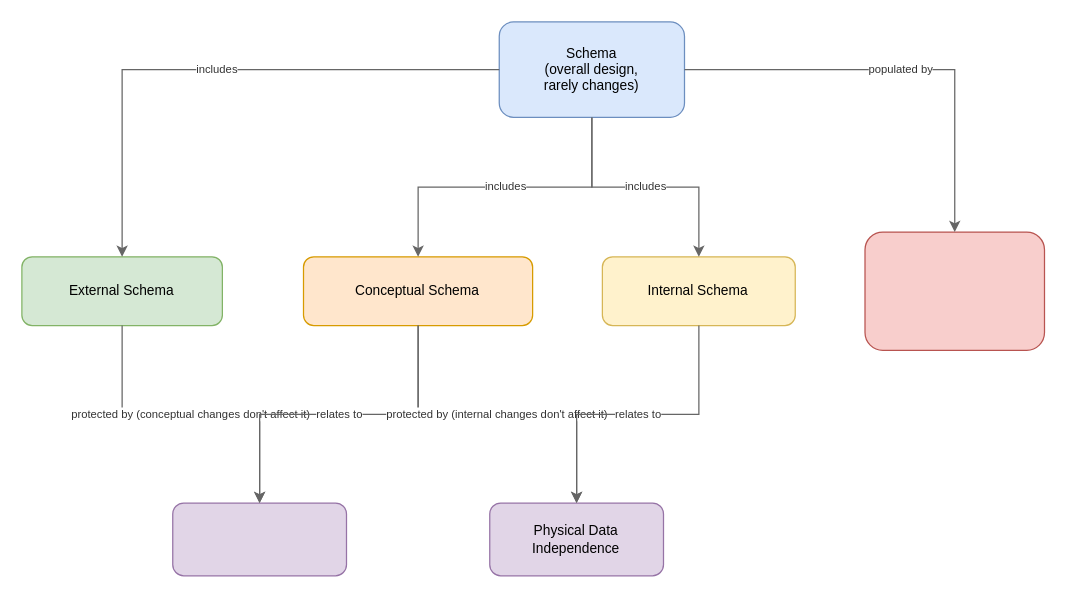
This 1068x599 diagram has some shape labels left out. Each missing label, with the box of its shape:
Instance (data at a given moment, changes often): (864, 231, 1044, 350)
Logical Data Independence: (172, 502, 346, 576)
